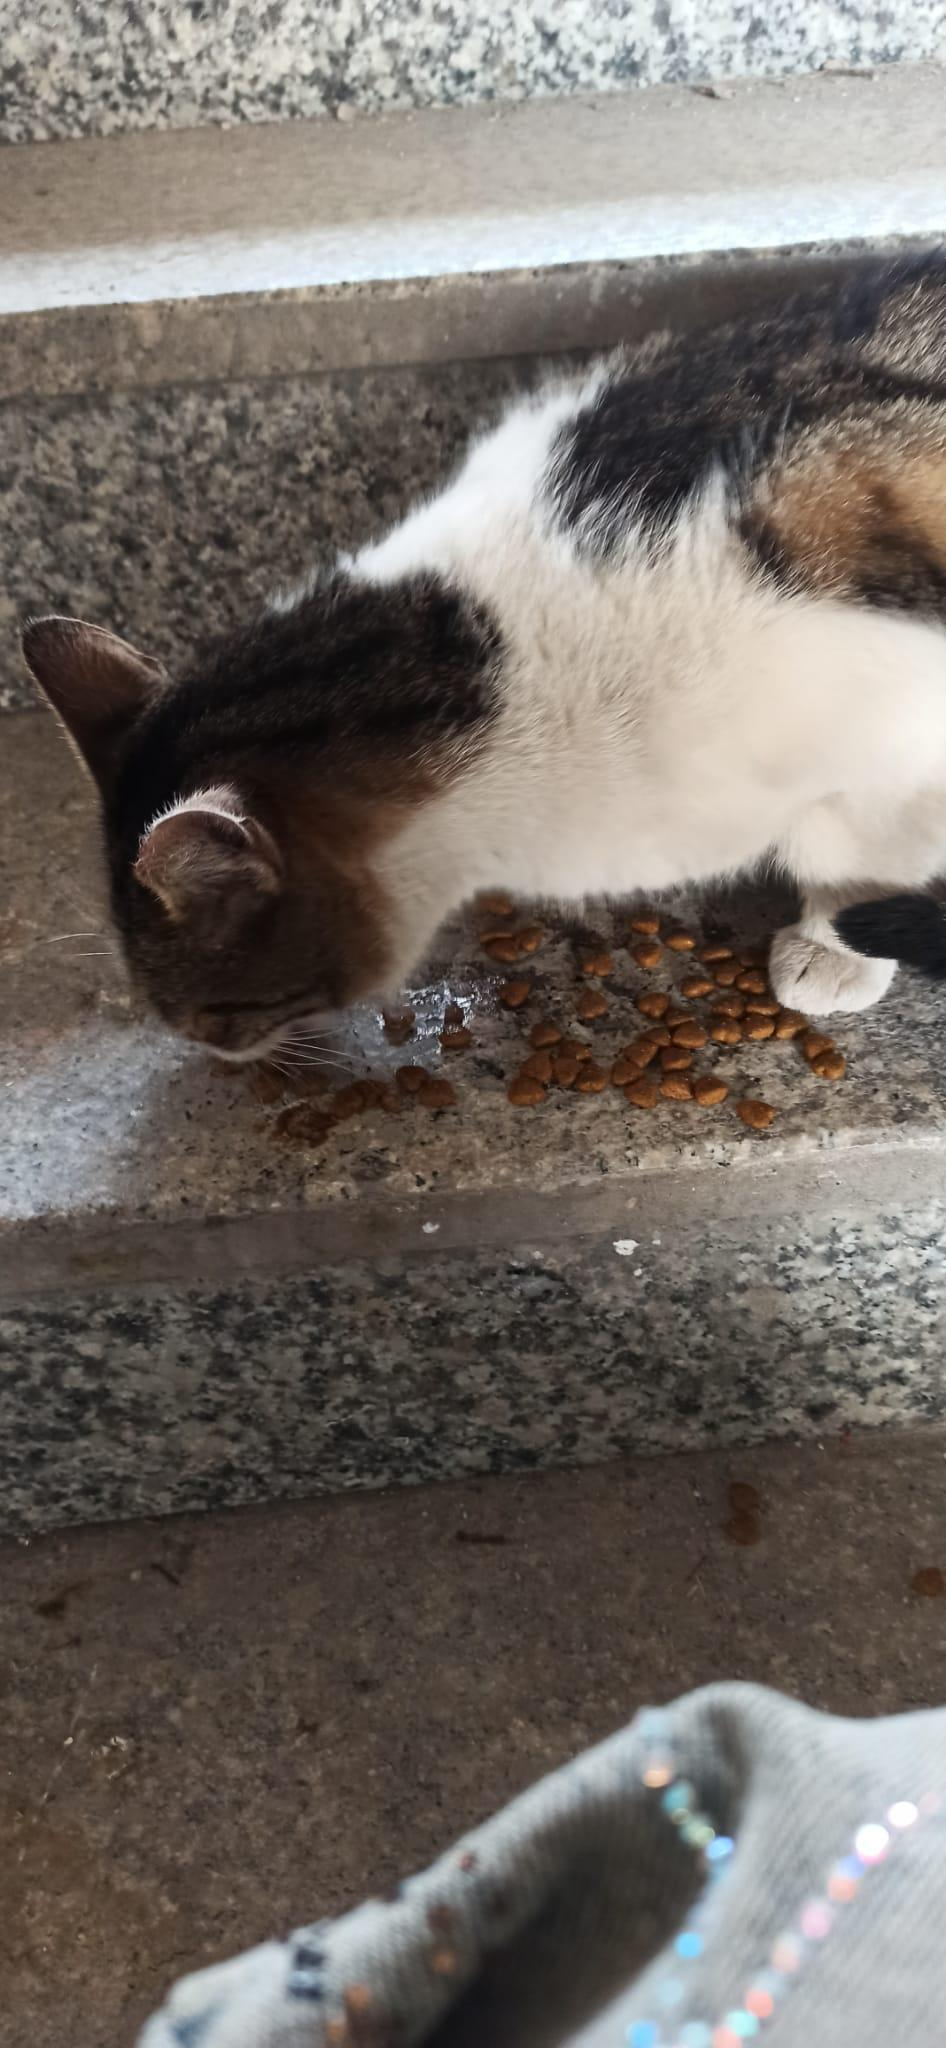kedo: (33, 287, 946, 1061)
